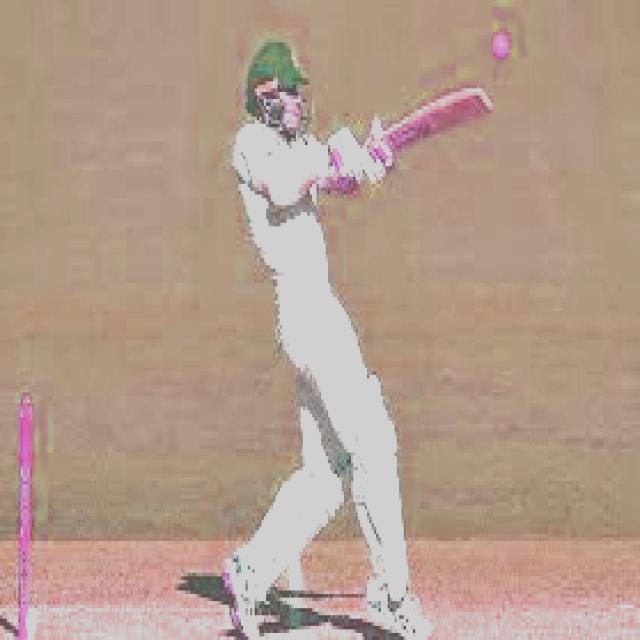toe: (472, 83, 496, 118)
